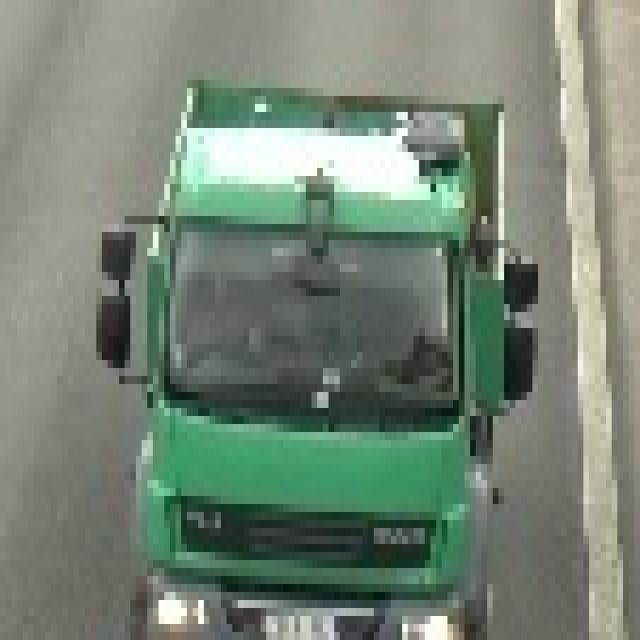Truck: (91, 72, 538, 632)
